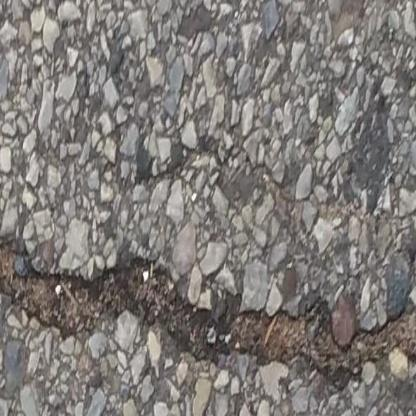Cracks: (0, 216, 416, 374)
